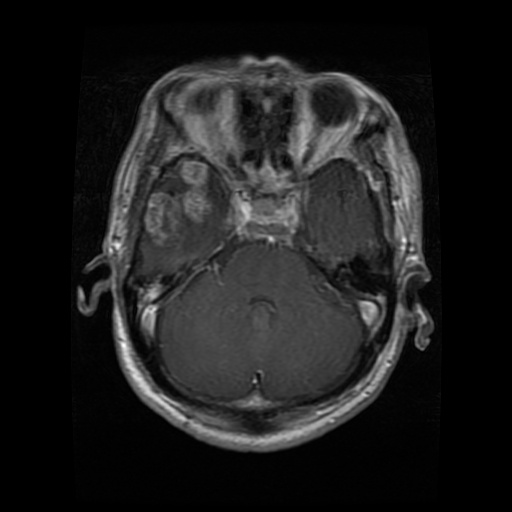glioma: (143, 161, 217, 251)
